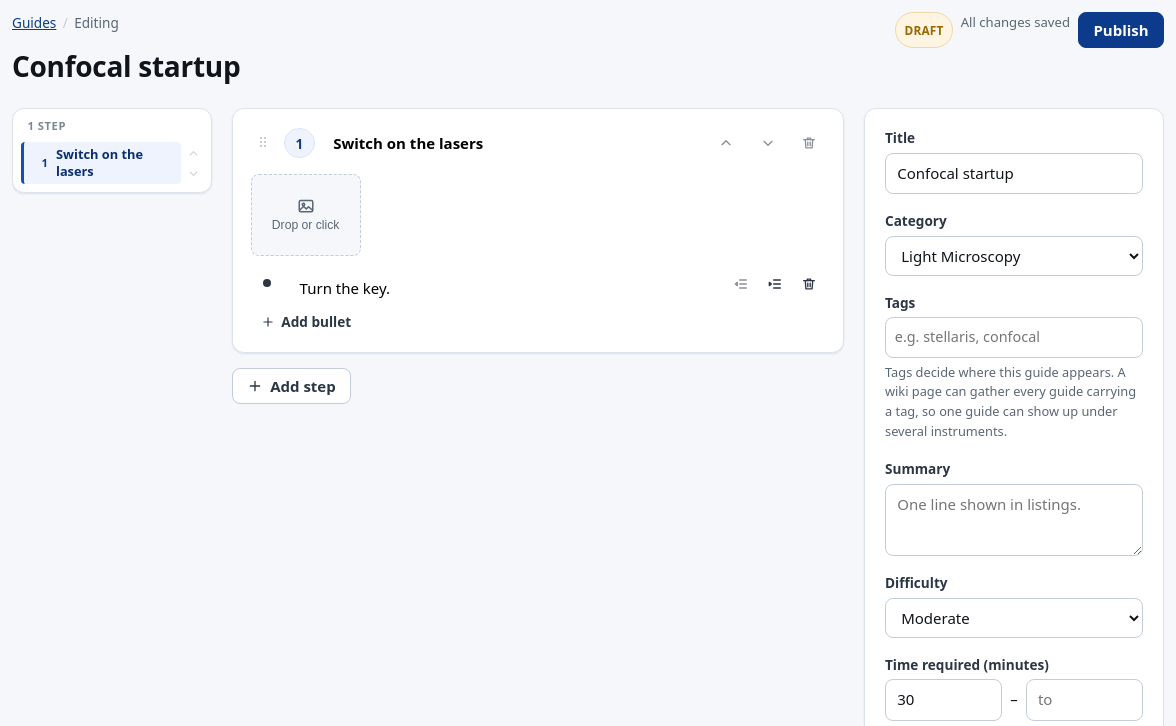
GuideEditorPage › starts a new bullet when the author presses Enter
Click the text box with placeholder "Describe what to do…": (504, 288) [290,270,718,306]
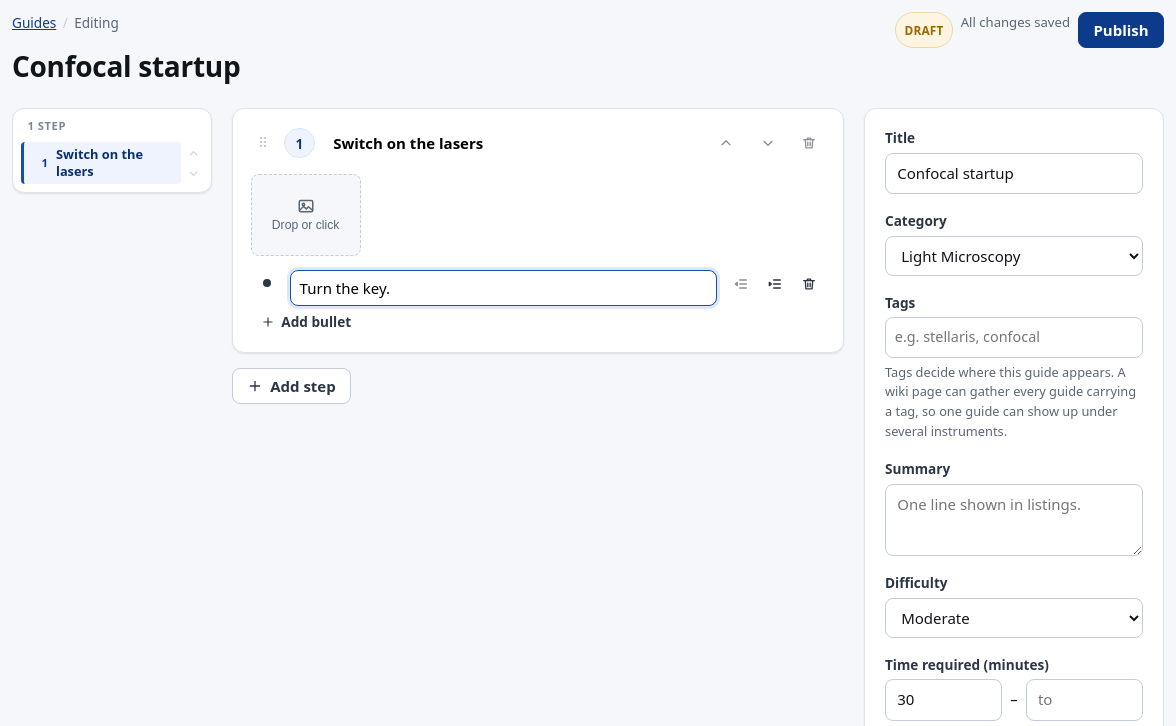
Press Enter
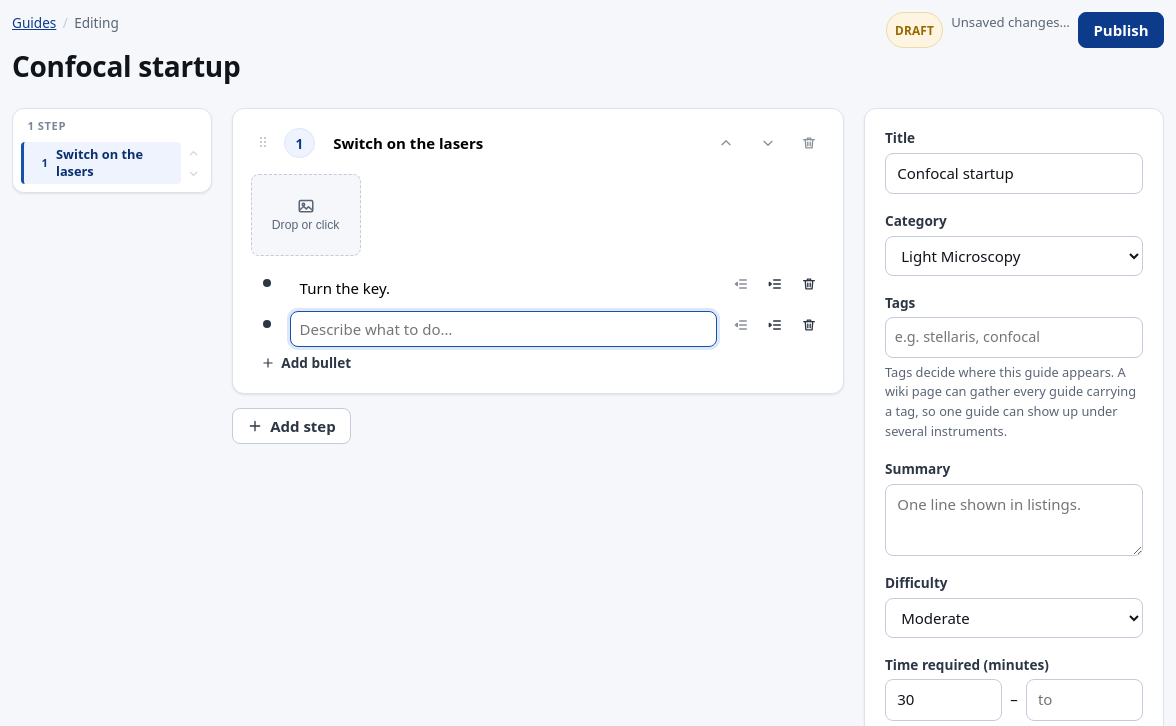
Expected: the number of text boxes with placeholder "Describe what to do…" is 2, [290,270,718,306]; [290,311,718,347]
Type keys "Wait for the laser to stabilise."
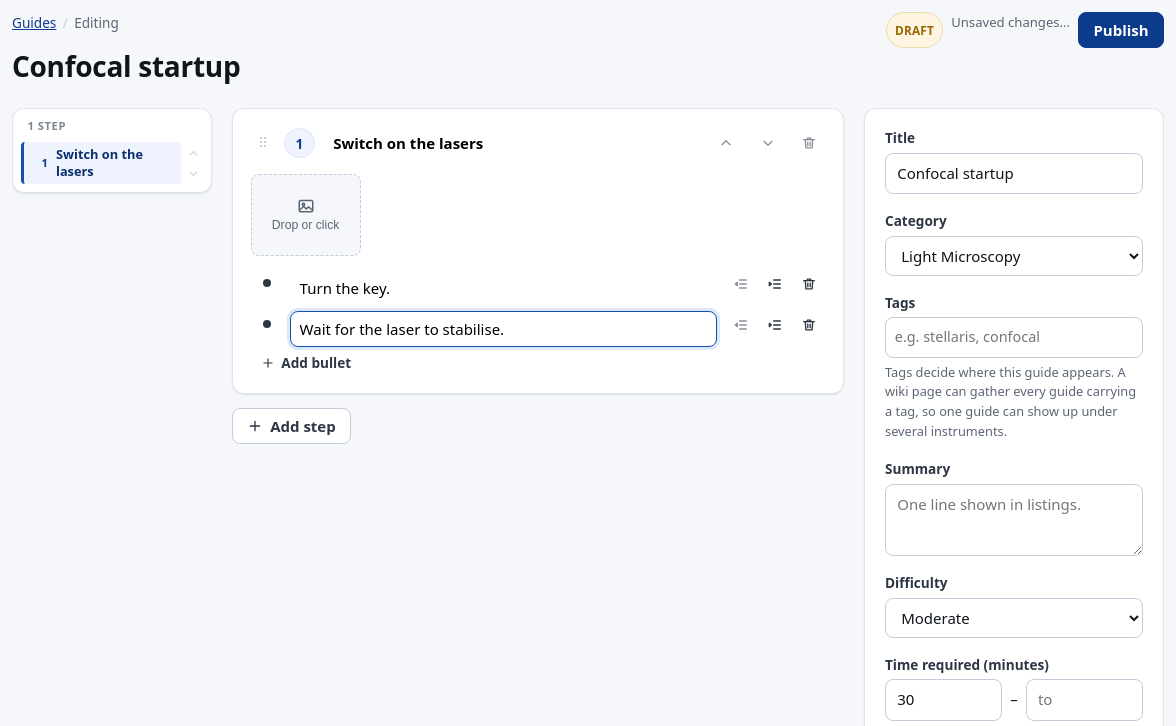
Expected: the 2nd text box showing "Wait for the laser to stabilise." is shown, [290,311,718,347]
